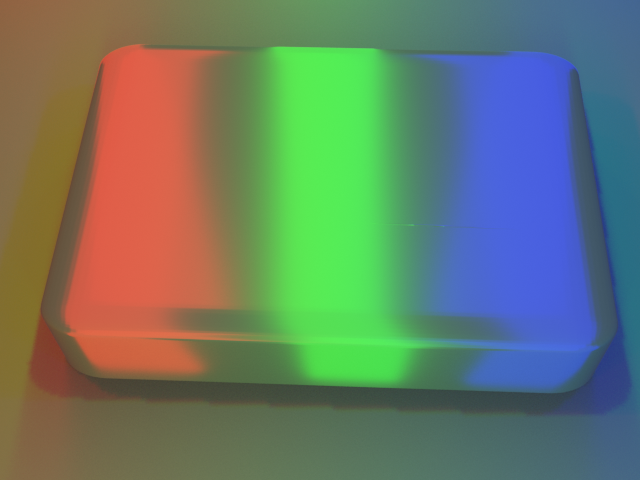scratch: (254, 110, 627, 360)
